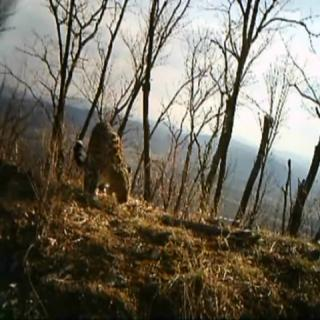Leopard: (81, 103, 129, 213)
